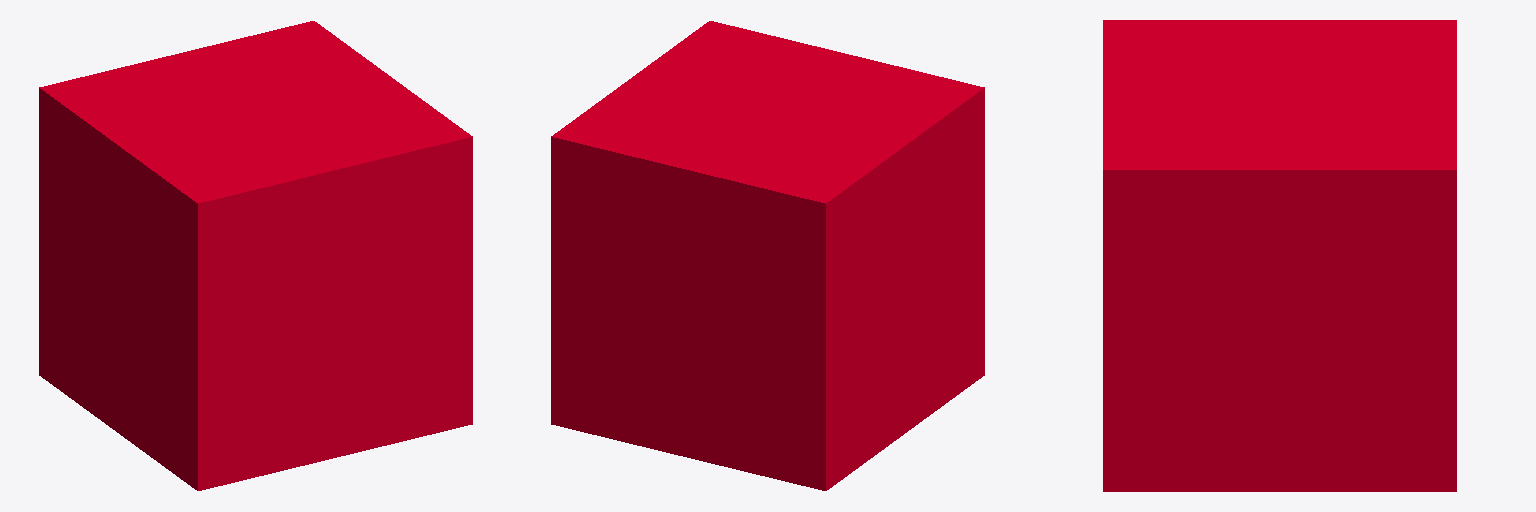
robot.urdf — cube.urdf:
<?xml version="1.0" ?>
<robot name="cube.urdf">
  <link name="cube">
    <contact>
    	<friction_anchor/>
      <lateral_friction value="1.0"/>
    </contact>
    <inertial>
      <origin rpy="0 0 0" xyz="0 0 0"/>
       <mass value="0.491"/>
       <inertia ixx="1" ixy="0" ixz="0" iyy="1" iyz="0" izz="1"/>
    </inertial>
    <visual>
      <origin rpy="0 0 0" xyz="0 0 0"/>
      <geometry>
				<mesh filename="cube.obj" scale="1.0 1.0 1.0"/>
      </geometry>
       <material name="red">
        <color rgba="0.9 0 0.2 1.0"/>
      </material>
    </visual>
    <collision>
      <origin rpy="0 0 0" xyz="0 0 0"/>
      <geometry>
				<mesh filename="cube.obj" scale="1.0 1.0 1.0"/>
      </geometry>
    </collision>
  </link>
</robot>

--- Render facts (derived) ---
3 views of the same robot in one strip: view 1: azimuth 30°, elevation 25°; view 2: azimuth 150°, elevation 25°; view 3: azimuth 270°, elevation 25° (orthographic).
Model cube.urdf with 1 links and 0 joints (none), rooted at cube, posed every joint at zero.
Links seen in each view (by area): view 1: cube; view 2: cube; view 3: cube.
Boxes of the visible links, <box> form: cube: <box>39,21,472,490</box>; cube: <box>551,21,984,490</box>; cube: <box>1103,20,1456,491</box>.
Size in the robot's own frame: 0.08 by 0.08 by 0.08 metres.
Meshes: 1 distinct files referenced, 1 mesh visuals loaded (1 OBJ).